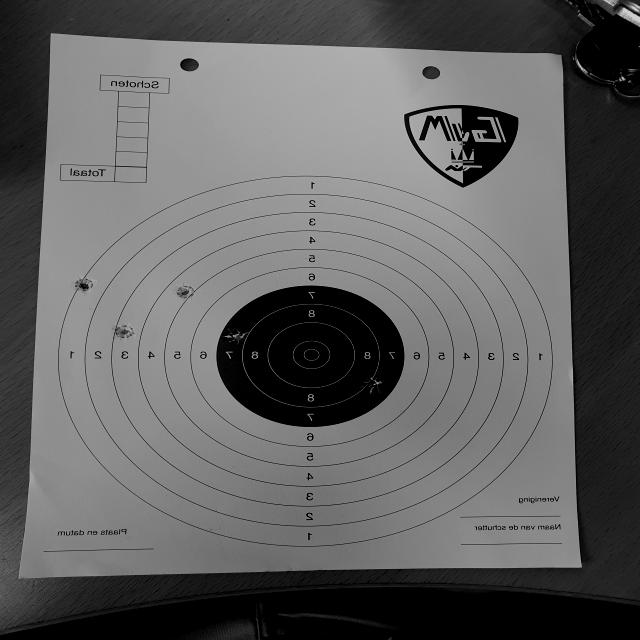1: (72, 275, 98, 295)
3: (109, 323, 135, 342)
5: (174, 283, 198, 301)
7: (220, 326, 248, 349)
8: (357, 374, 386, 396)
Target: (61, 173, 551, 549)
black_contour: (216, 286, 404, 427)
